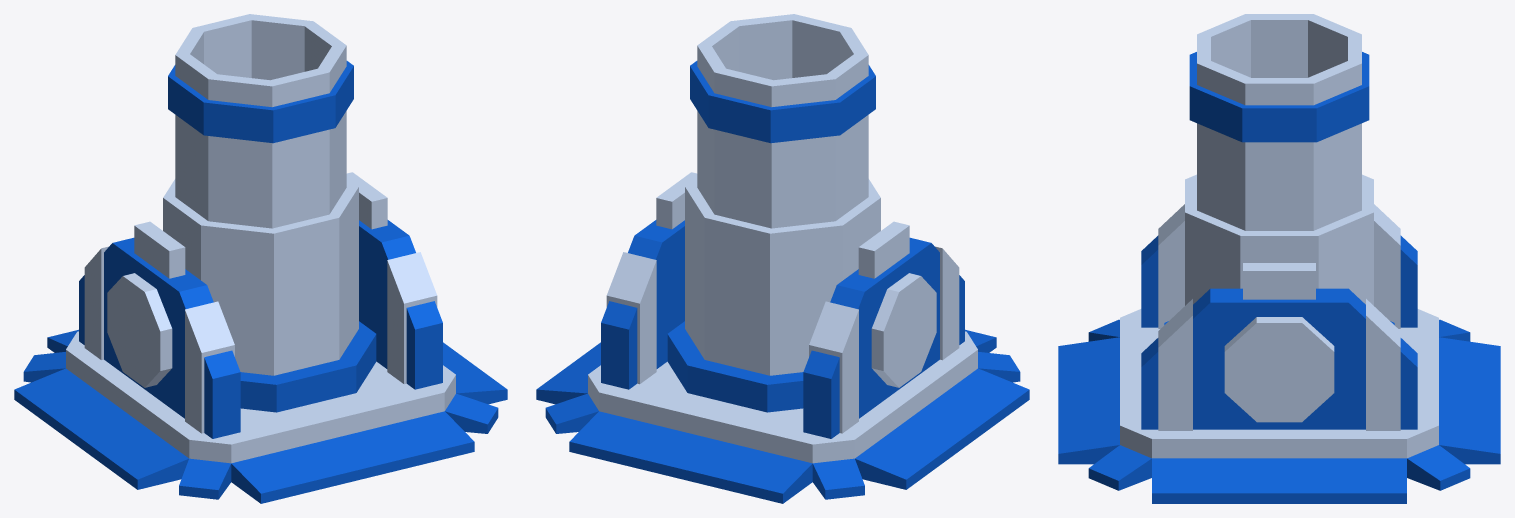
Rendered from Mortar_2.fbx.
3 renders of one model, left to right at view 1: azimuth 30°, elevation 25°; view 2: azimuth 150°, elevation 25°; view 3: azimuth 270°, elevation 25°, orthographic. The views are drawn at different scales.
Visible parts, largest first — view 1: MortarBase2, MortarCannon2; view 2: MortarBase2, MortarCannon2; view 3: MortarBase2, MortarCannon2.
Boxes of the visible parts, left/top/right/bottom form: MortarBase2: left=14, top=172, right=507, bottom=503; MortarCannon2: left=163, top=14, right=358, bottom=375; MortarBase2: left=536, top=172, right=1029, bottom=503; MortarCannon2: left=685, top=14, right=880, bottom=375; MortarBase2: left=1058, top=204, right=1500, bottom=503; MortarCannon2: left=1185, top=14, right=1373, bottom=305.
Size of the model in its own units: 30.86 by 27.86 by 30.86.
1 material, 1 textured.
